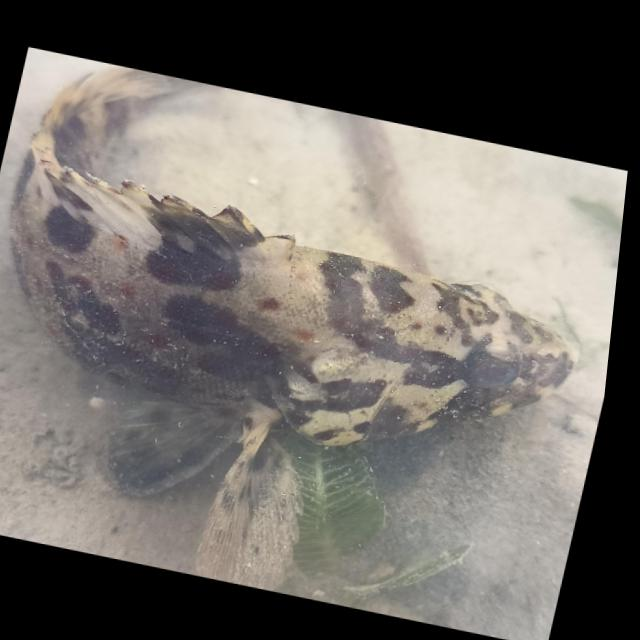Groupers: (0, 45, 627, 640)
